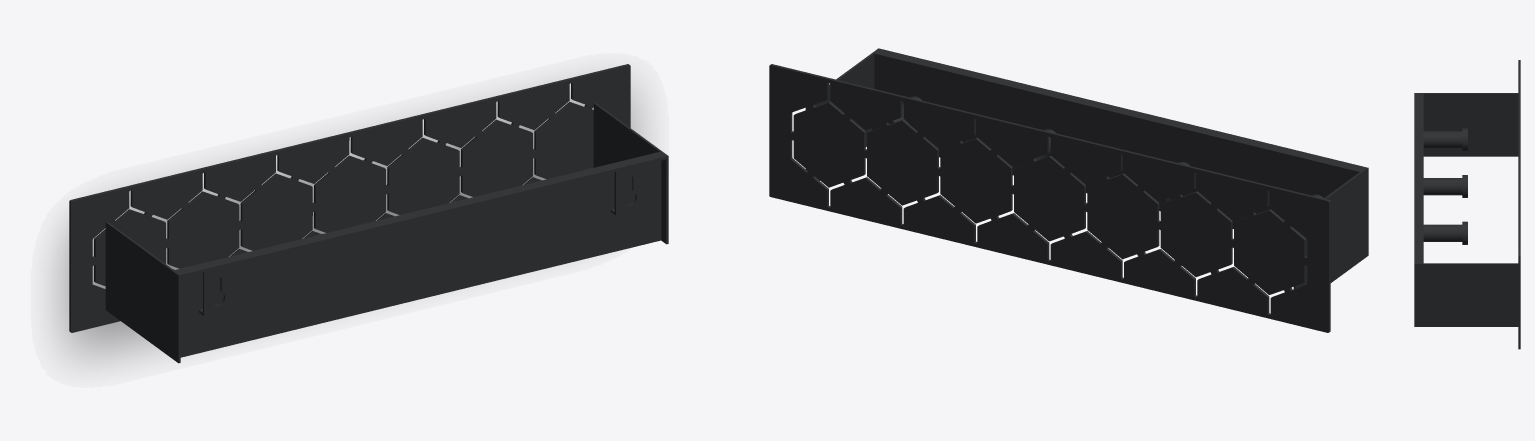
The model's file is bee-hook.8cb03eace3.ar.glb.
The picture shows the model from 3 angles, left to right: view 1: azimuth 30°, elevation 25°; view 2: azimuth 150°, elevation 25°; view 3: azimuth 270°, elevation 25°; orthographic projection. The views are drawn at different scales.
Visible parts, largest first — view 1: NAUO1, object 2; view 2: NAUO1; view 3: NAUO1.
Boxes of the visible parts, <box> form: NAUO1: <box>69,64,668,363</box>; object 2: <box>58,88,641,356</box>; NAUO1: <box>769,48,1368,332</box>; NAUO1: <box>1414,60,1520,349</box>.
Size of the model in its own units: 0.48 by 0.17 by 0.092.
Materials: 2 (1 with a texture image).
